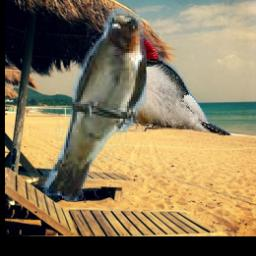Swallow: (42, 9, 148, 202)
Woodpecker: (103, 37, 232, 136)
